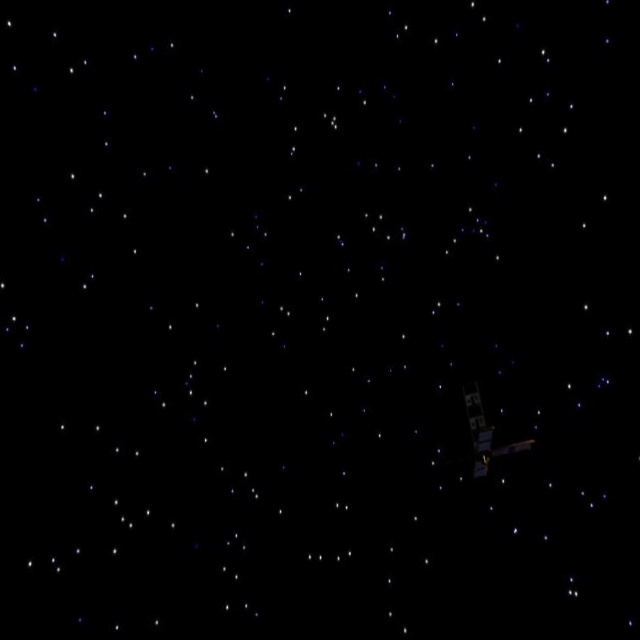medium_debris: (442, 376, 538, 487)
